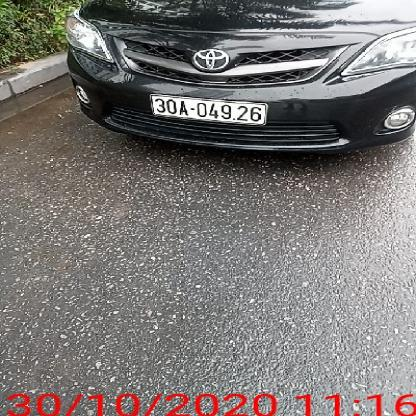biensoxe: (149, 93, 269, 127)
